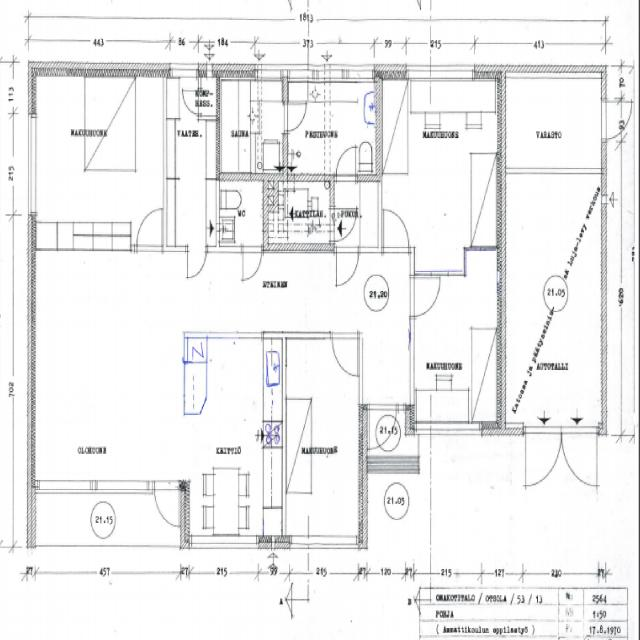door: (562, 422, 598, 489), (526, 422, 562, 489), (411, 278, 442, 317), (154, 481, 178, 531), (370, 405, 396, 450), (332, 332, 357, 377), (602, 102, 632, 138), (384, 211, 408, 254), (138, 210, 162, 252), (330, 208, 358, 242), (336, 248, 359, 286), (282, 102, 307, 130), (337, 147, 356, 182), (187, 247, 206, 280), (244, 247, 262, 279), (183, 90, 201, 114)
